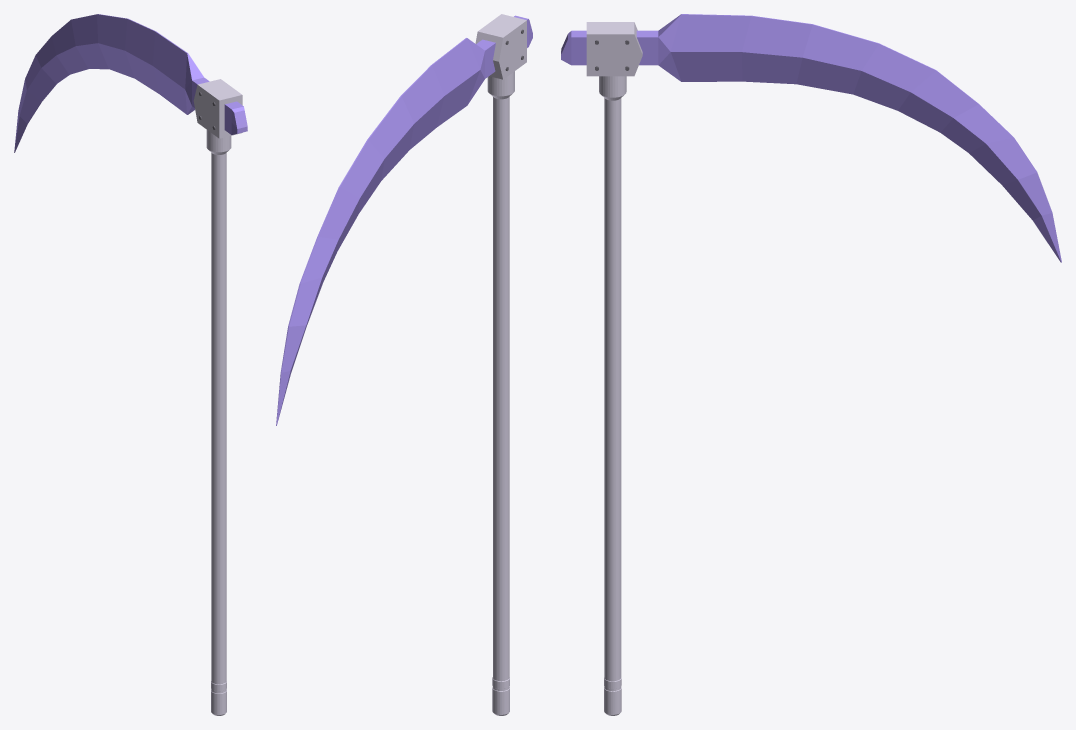
The model's file is battle_scythe.obj.
3 renders of one model, left to right at view 1: azimuth 30°, elevation 25°; view 2: azimuth 150°, elevation 25°; view 3: azimuth 270°, elevation 25°, orthographic. The views are drawn at different scales.
Parts seen in each view (by area): view 1: 柱体.001; view 2: 柱体.001; view 3: 柱体.001.
Boxes of the visible parts, x1,y1,x2,y2 form: 柱体.001: [14, 14, 247, 715]; 柱体.001: [276, 14, 532, 715]; 柱体.001: [561, 14, 1061, 715].
Bounding box in the file's own units: 0.0945 × 2.23 × 1.45.
